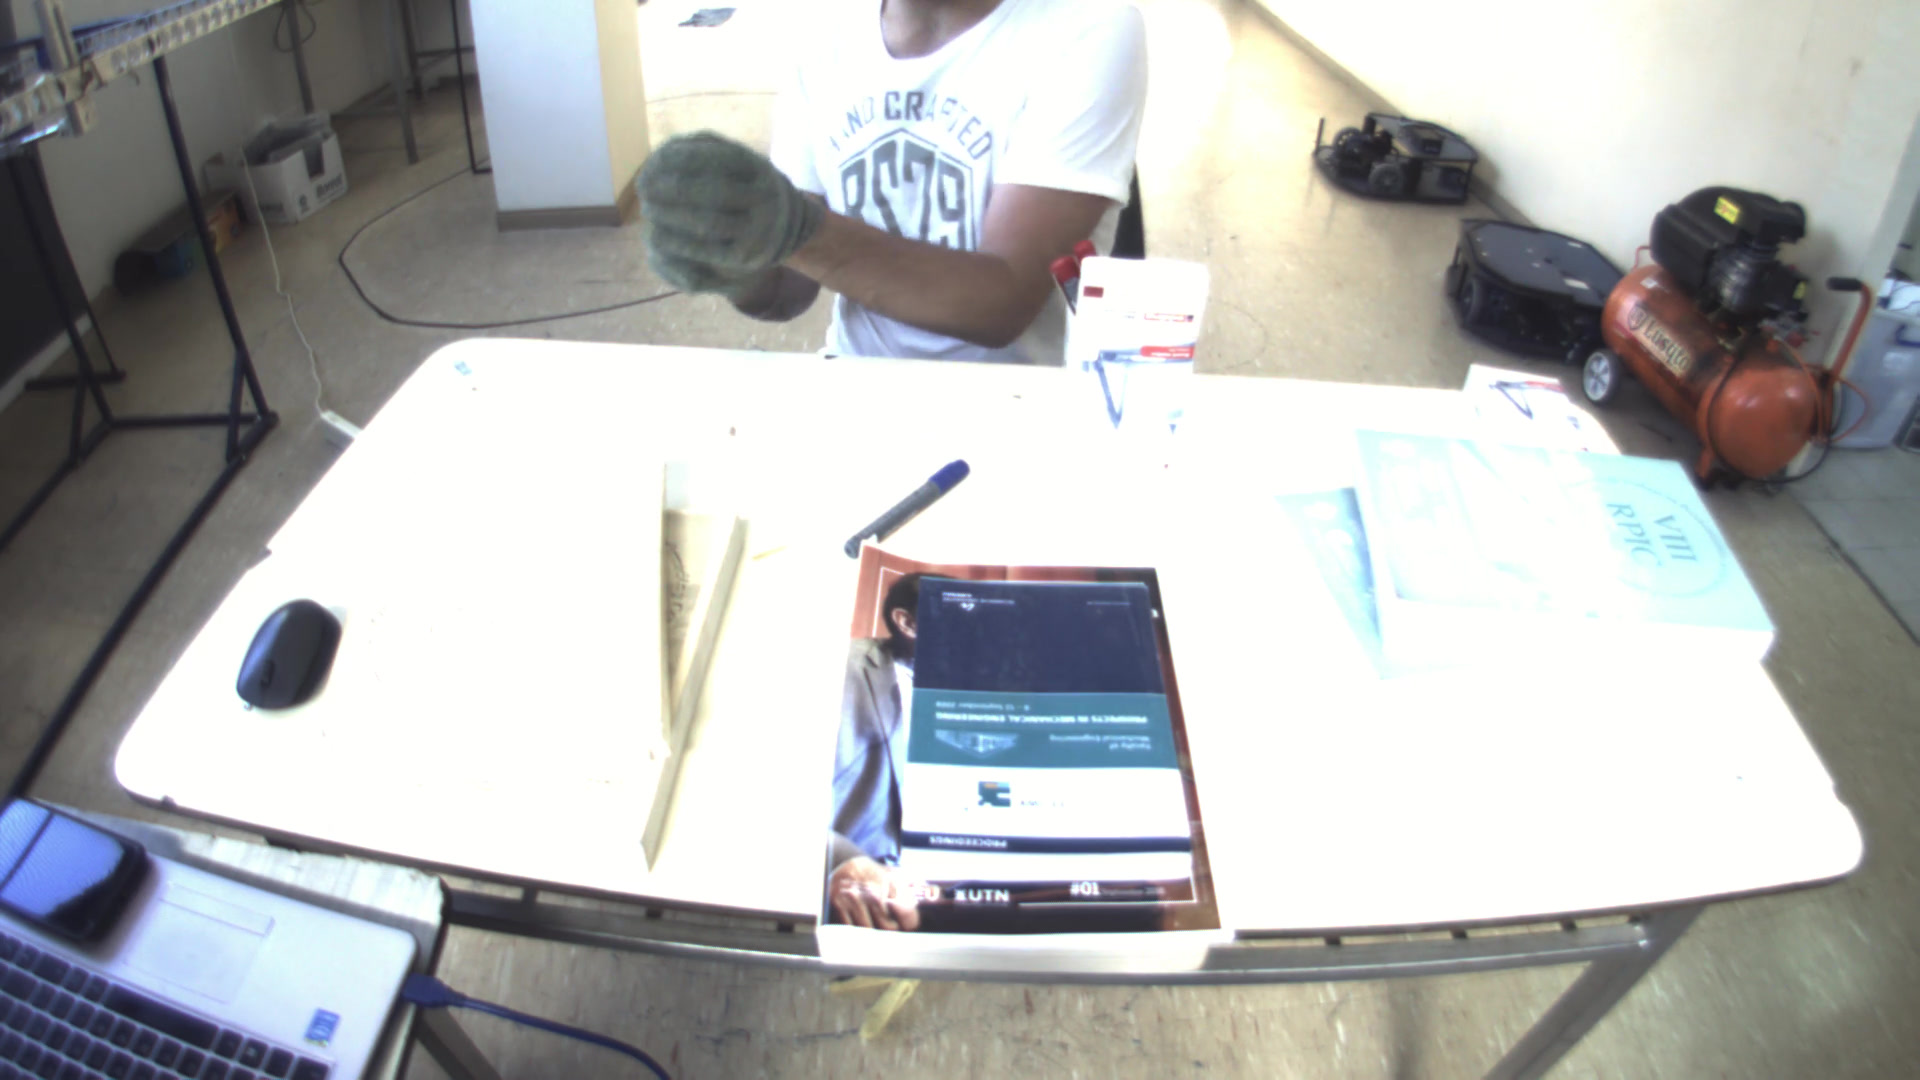hand: (622, 133, 822, 299)
